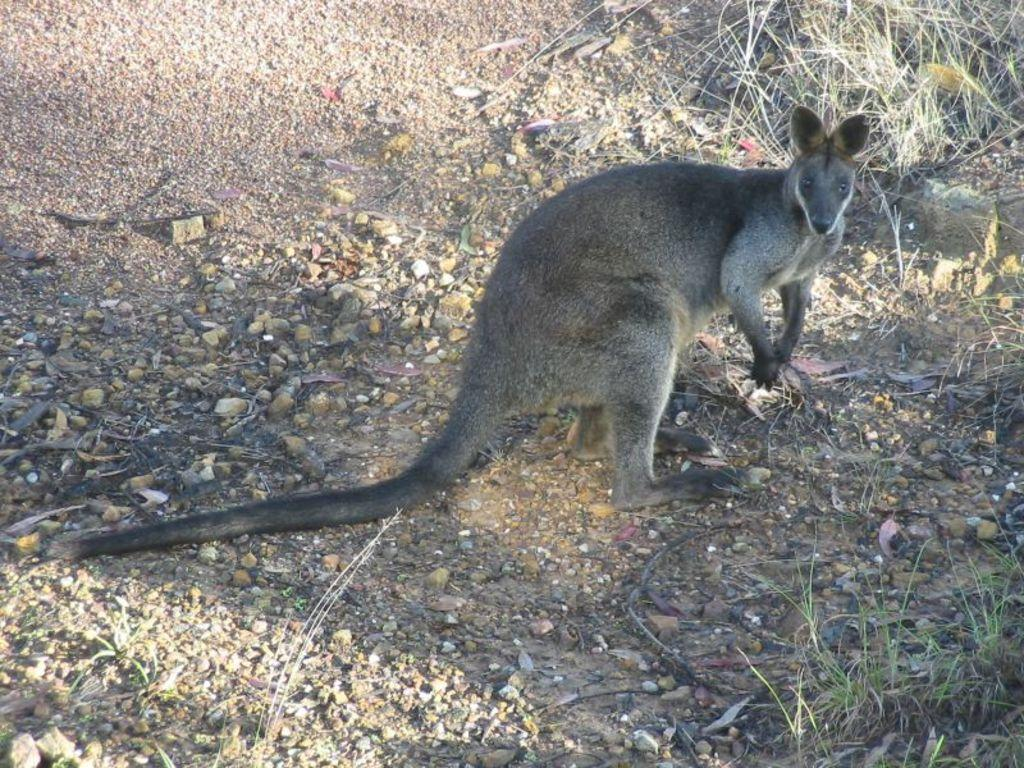kangaroo: (38, 105, 870, 563)
